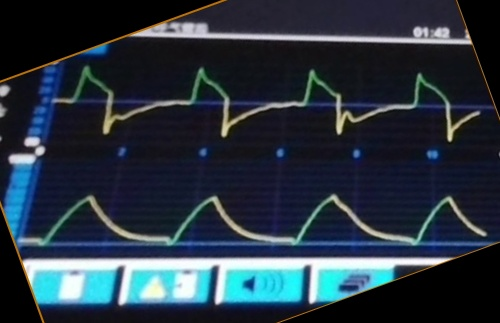Premature_cycling Flow: (64, 60, 477, 141)
Premature_cycling Volume: (34, 186, 482, 248)
